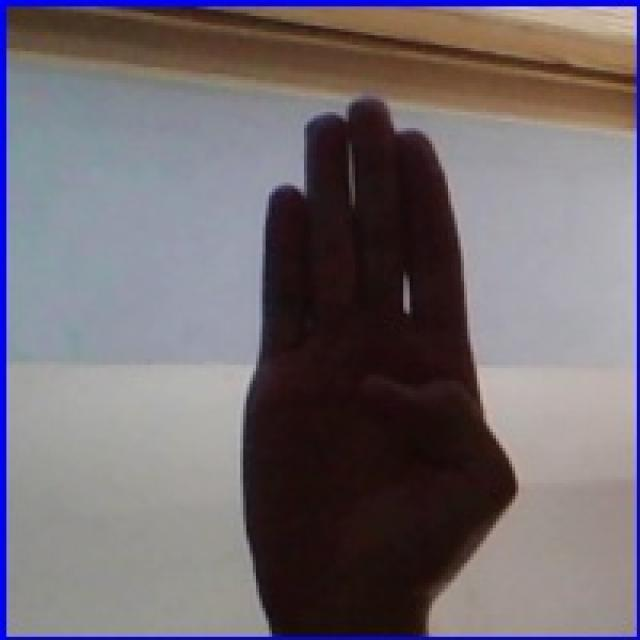B: (213, 77, 532, 634)
